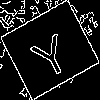Y: (25, 24, 74, 81)
